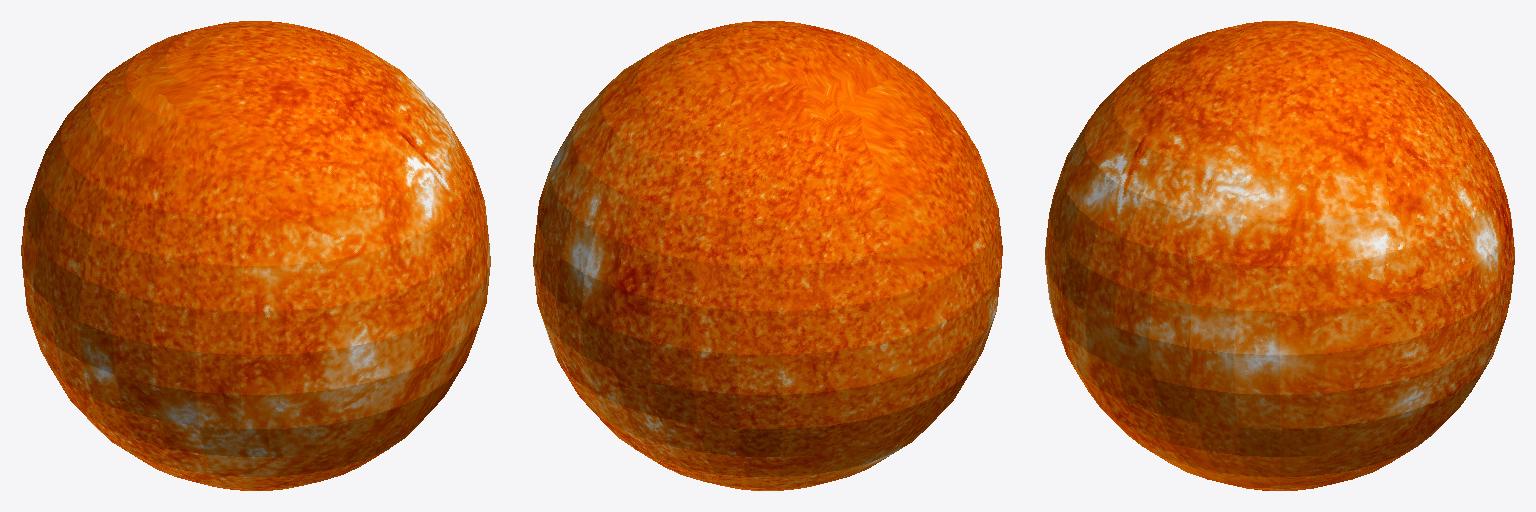
3 views of the same model, side by side, from view 1: azimuth 30°, elevation 25°; view 2: azimuth 150°, elevation 25°; view 3: azimuth 270°, elevation 25° (orthographic).
Visible parts, largest first — view 1: Sphere; view 2: Sphere; view 3: Sphere.
Part boxes in pixels (bbox=[...]): Sphere: bbox=[21, 21, 490, 490]; Sphere: bbox=[533, 21, 1002, 490]; Sphere: bbox=[1045, 21, 1514, 490].
Size of the model in its own units: 2 by 2 by 2.
1 materials, 1 textured.